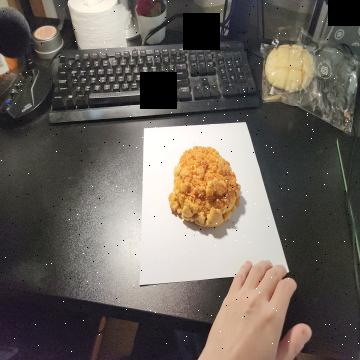soboru_bread: (169, 146, 242, 229)
